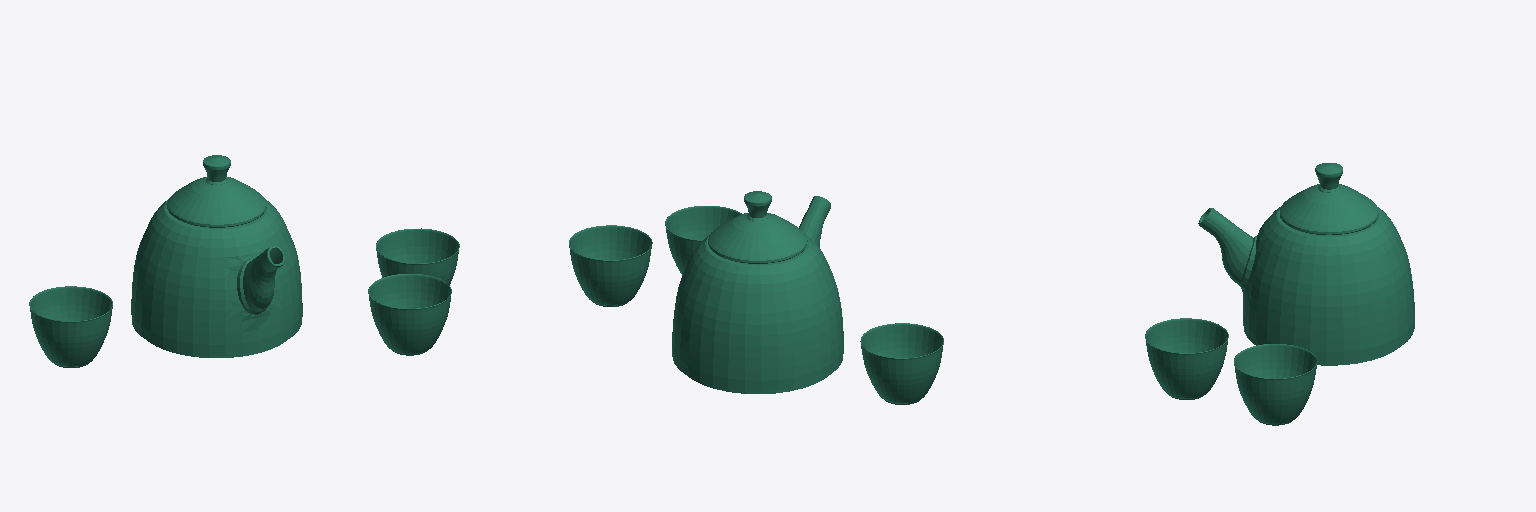
The model's file is teapot.obj.
3 renders of one model, left to right at view 1: azimuth 30°, elevation 25°; view 2: azimuth 150°, elevation 25°; view 3: azimuth 270°, elevation 25°, orthographic.
Visible parts, largest first — view 1: tasse3_tasse; view 2: tasse3_tasse; view 3: tasse3_tasse.
Boxes of the visible parts, x1=… form: tasse3_tasse: x1=29, y1=155, x2=459, y2=367; tasse3_tasse: x1=569, y1=191, x2=943, y2=404; tasse3_tasse: x1=1145, y1=163, x2=1414, y2=425.
Bounding box in the file's own units: 2.86 × 1.17 × 1.71.